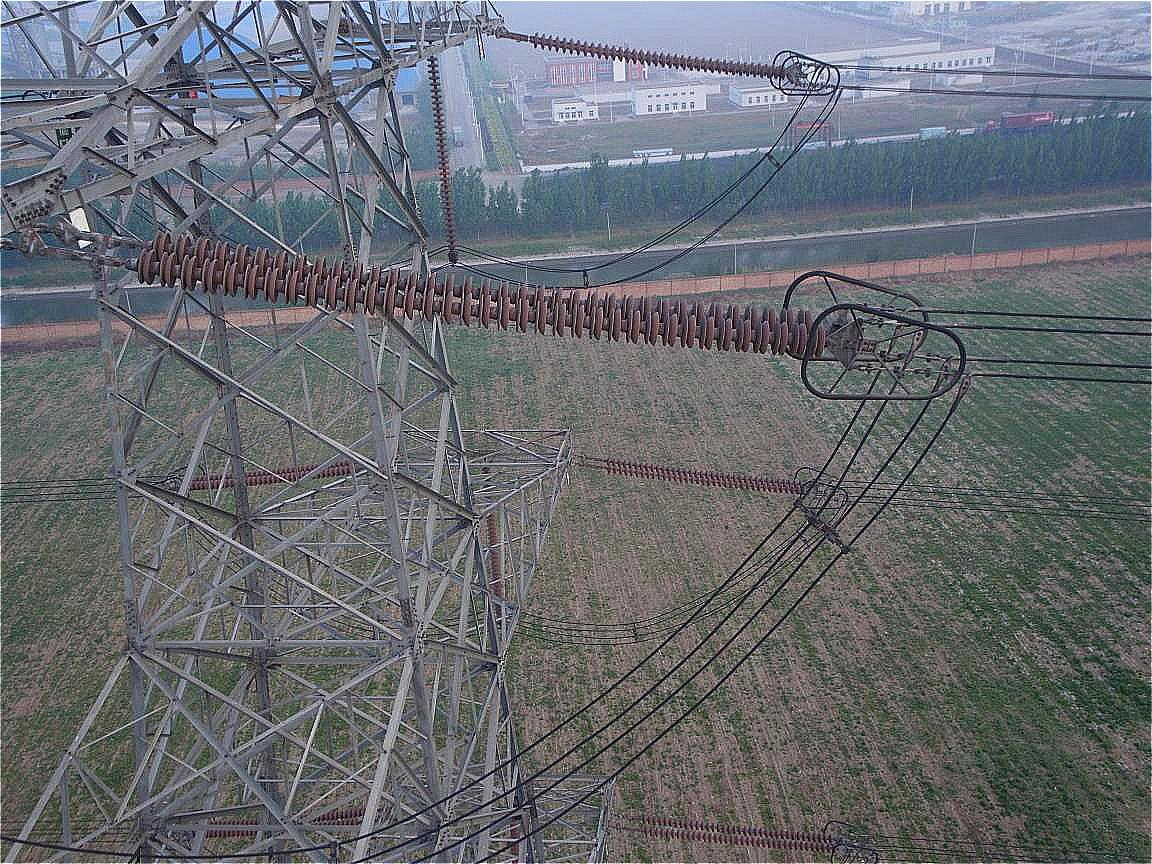insultor1: (532, 29, 789, 80), (607, 458, 814, 501), (640, 812, 836, 855)
insultor2: (140, 231, 827, 356)
